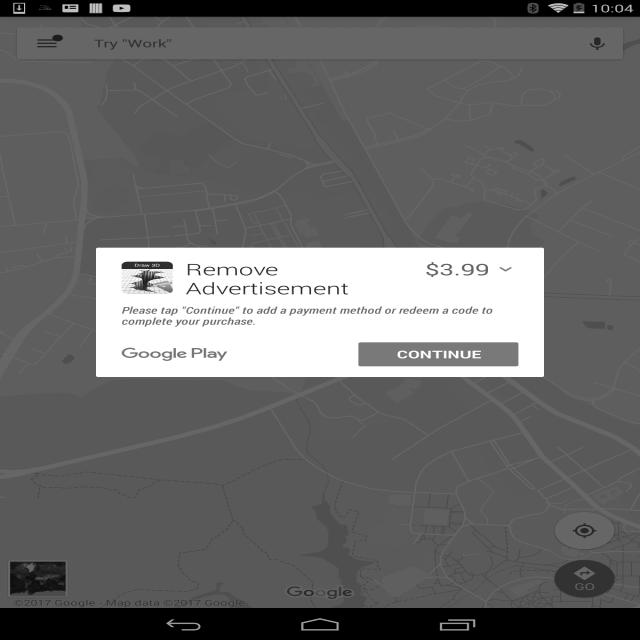Button: (346, 334, 523, 370)
ImageButton: (552, 557, 612, 596), (554, 511, 614, 548), (33, 32, 75, 54), (579, 33, 615, 58)
ImageView: (116, 260, 170, 293)
TextView: (118, 303, 512, 327), (179, 261, 358, 297), (116, 339, 238, 364), (418, 256, 493, 280)
